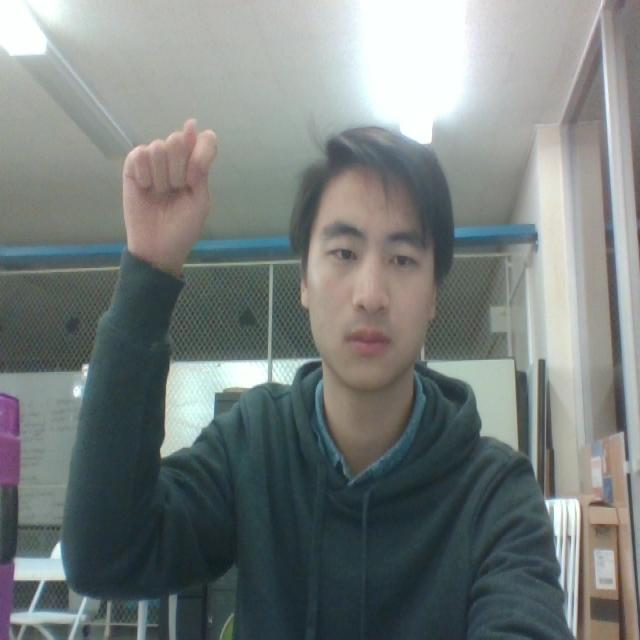T: (106, 100, 241, 297)
